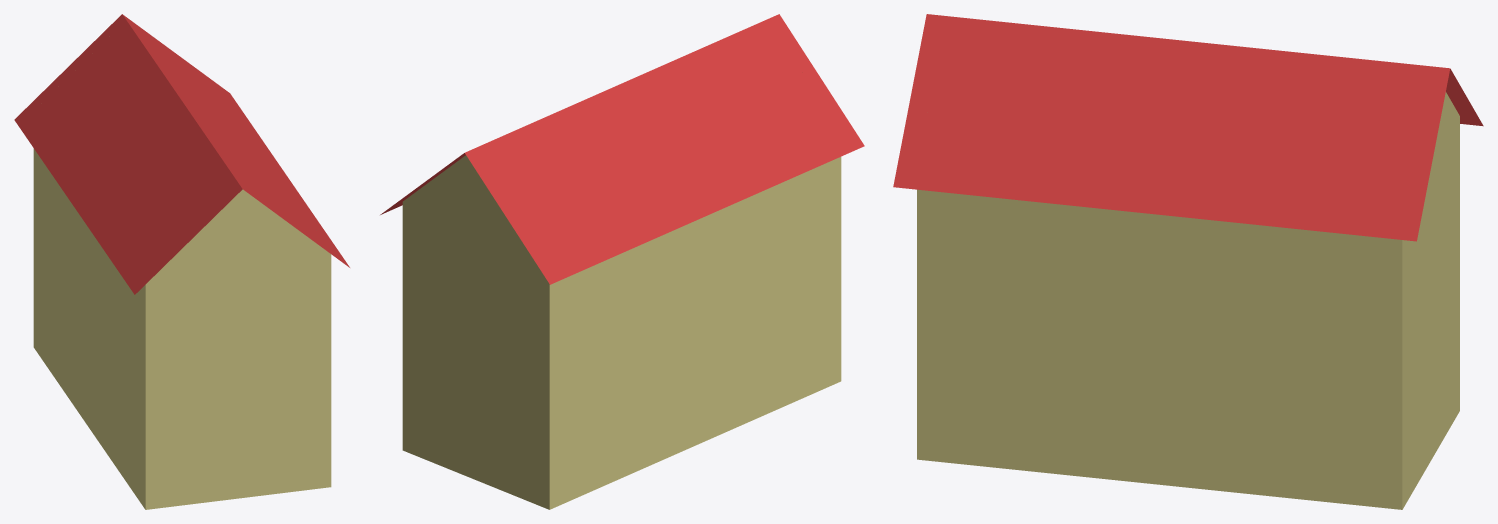
3 views of the same model, side by side, from view 1: azimuth 30°, elevation 25°; view 2: azimuth 150°, elevation 25°; view 3: azimuth 270°, elevation 25° (orthographic). The views are drawn at different scales.
Parts seen in each view (by area): view 1: group_5, group_3, group_4; view 2: group_5, group_3, group_4; view 3: group_5, group_3, group_4.
Boxes of the visible parts, x1,y1,x2,y2 form: group_5: (33,148,331,509); group_3: (14,14,349,294); group_4: (14,14,349,267); group_5: (402,155,841,509); group_3: (476,14,864,284); group_4: (380,14,811,284); group_5: (917,92,1459,509); group_3: (896,14,1483,241); group_4: (893,15,1479,187).
Size of the model in its own units: 15.31 by 22.53 by 16.59.
